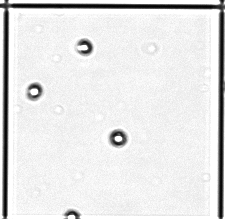Living Cell: (75, 38, 93, 54), (110, 129, 126, 146), (27, 84, 42, 99)
